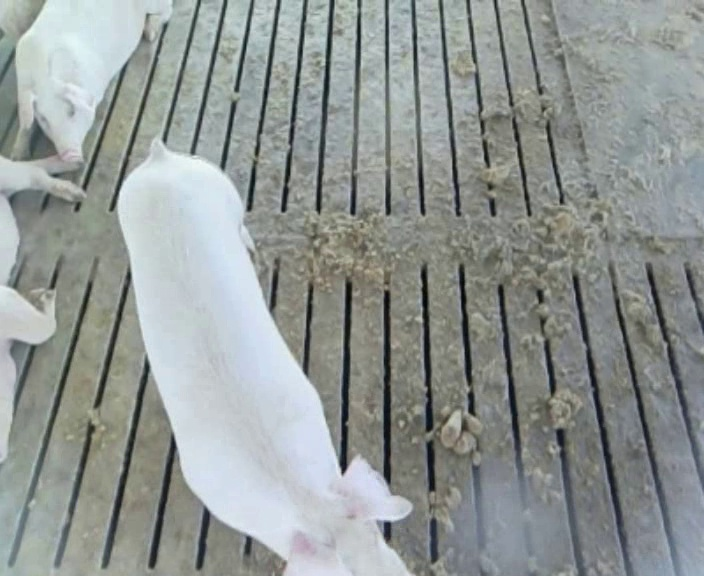pig: (118, 139, 411, 573), (0, 156, 84, 461), (14, 3, 171, 160)
